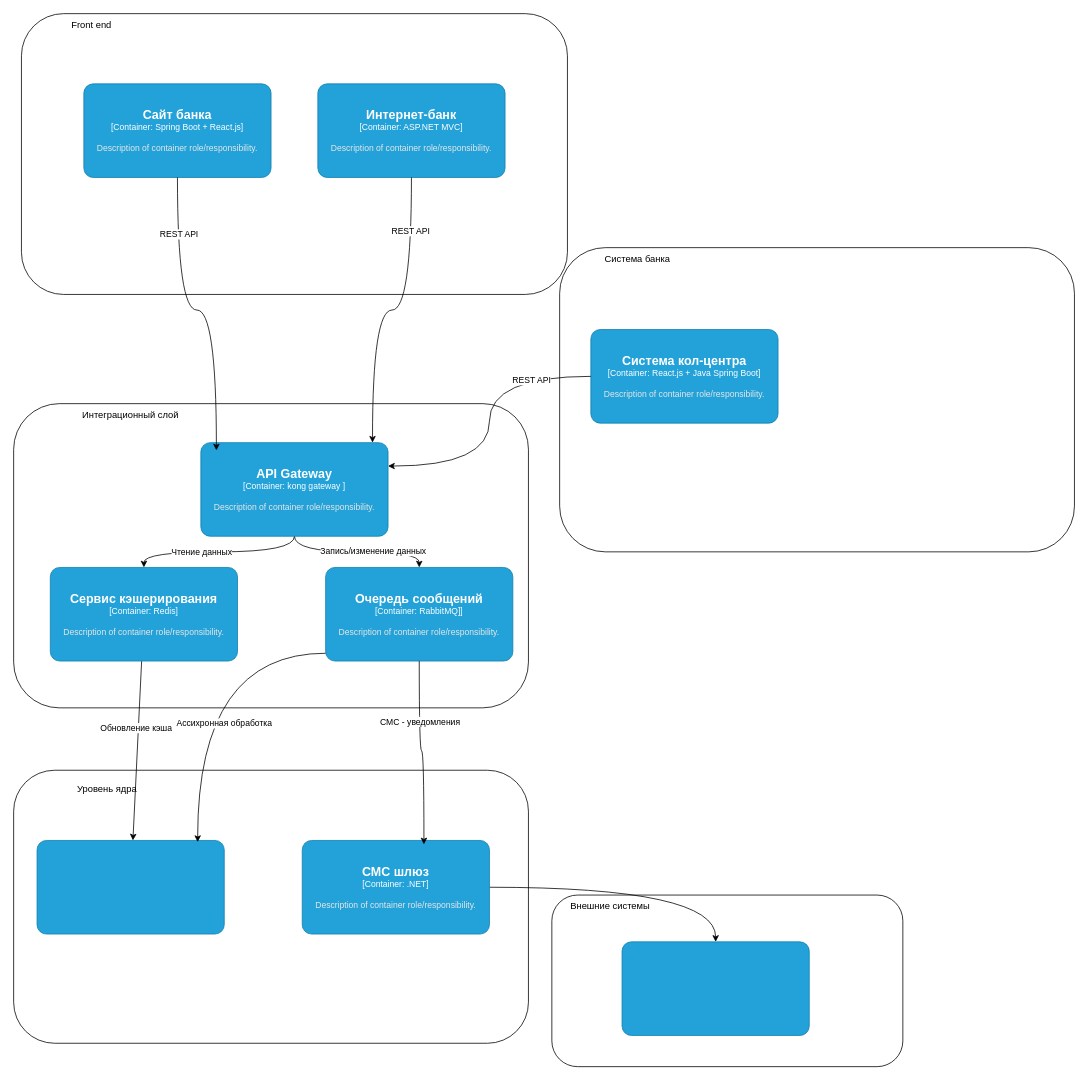
Image size: 1088x1080. Some labels were removed from this diagram. The centre of each missing label's shape, as x and y in pixels:
"АБС [Container: Oracle + PL/SQL] Description of container role/responsibility." belongs at [130,887].
"Телеком оператор [Container: ] Description of container role/responsibility." belongs at [715,988].
